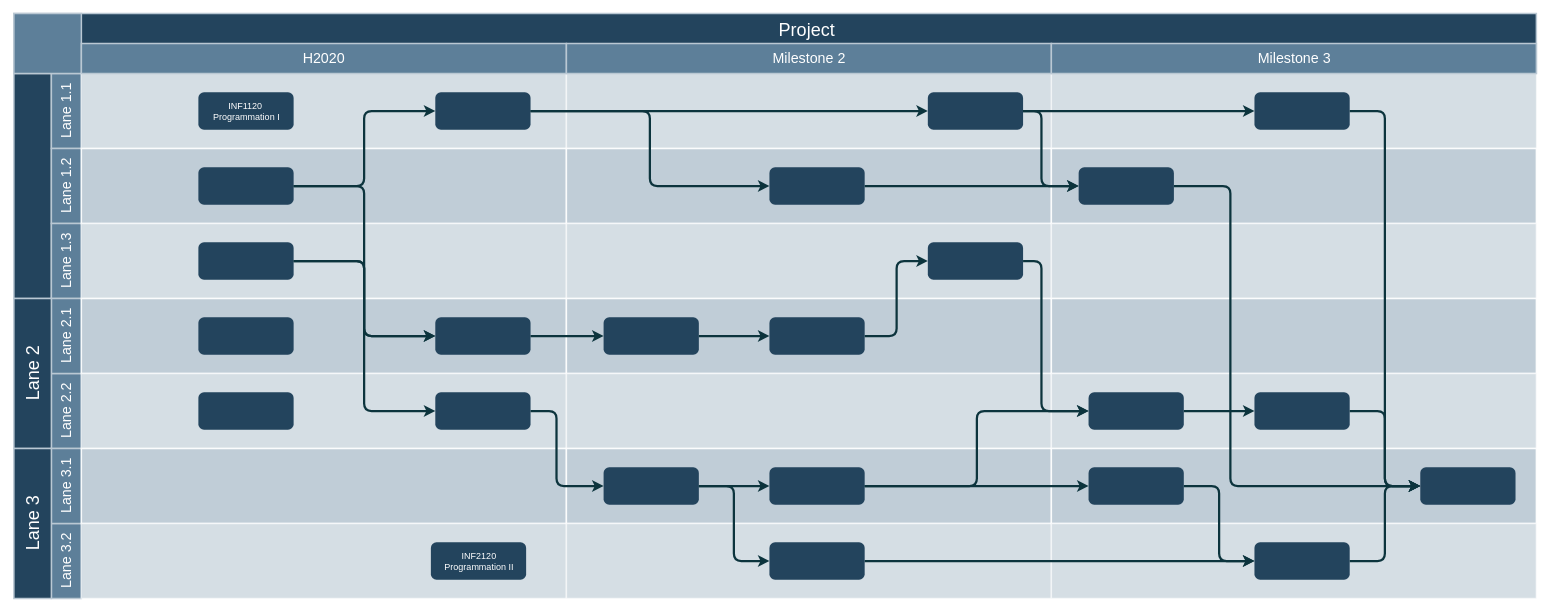
Some shapes in this 1550 by 612 pixel diagram are drawn without their labels. Here are the shapes that lost their labels. From the top down, the box of each, then its label:
(13, 12, 82, 74): v 1.0
(13, 72, 52, 299): Lane 1
